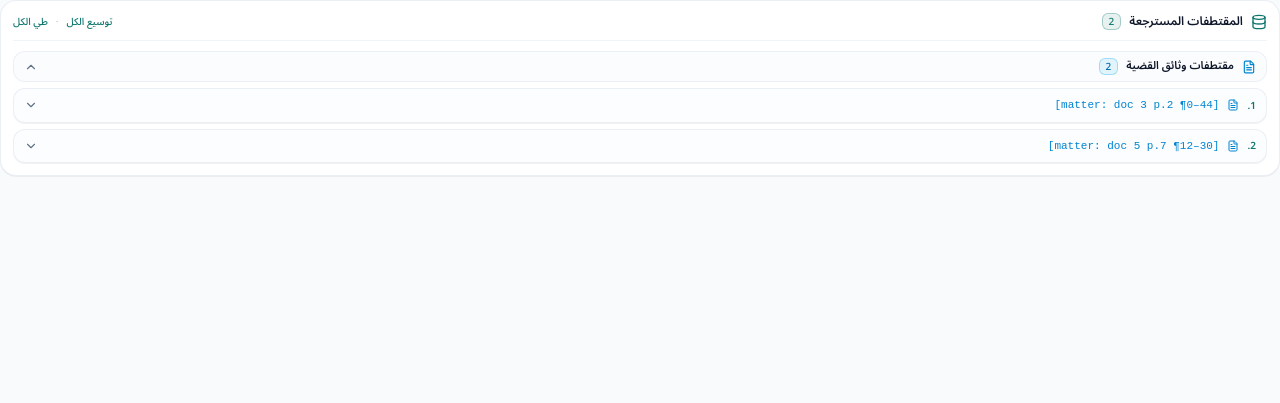
Test: RetrievedChunksPanel › expands one chunk card at a time and leaves its siblings collapsed
The image size is (1280, 403).
Expected: the text "تمت تسوية العقد كتابةً قبل انتهاء أجل الإخطار." is not shown
Click the button "1. [matter: doc 3 p.2 ¶0–44]".
click(1137, 105)  # box [14,89,1266,122]
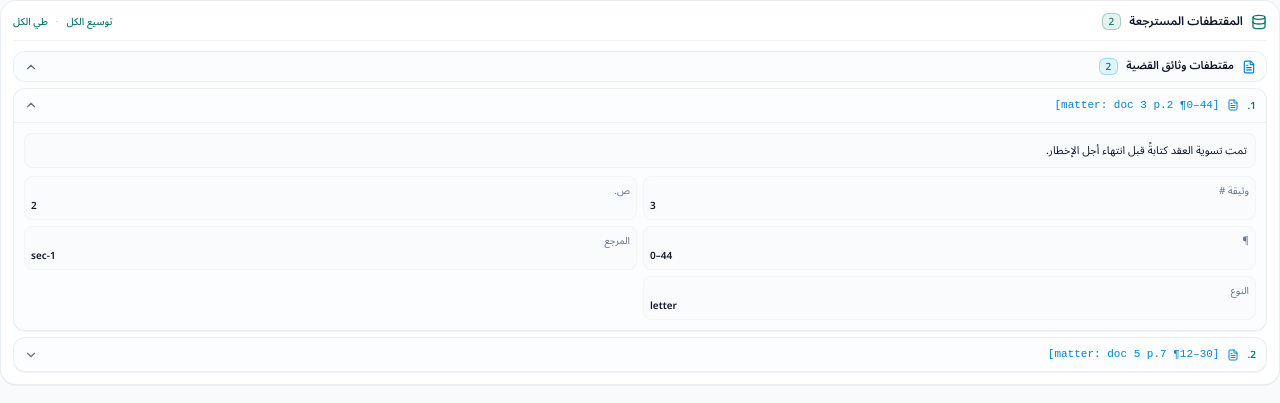
Now the button "1. [matter: doc 3 p.2 ¶0–44]" is expanded
Now the text "تمت تسوية العقد كتابةً قبل انتهاء أجل الإخطار." is shown, box [24,132,1256,168]
Click the button "1. [matter: doc 3 p.2 ¶0–44]".
click(1137, 105)  # box [14,89,1266,122]
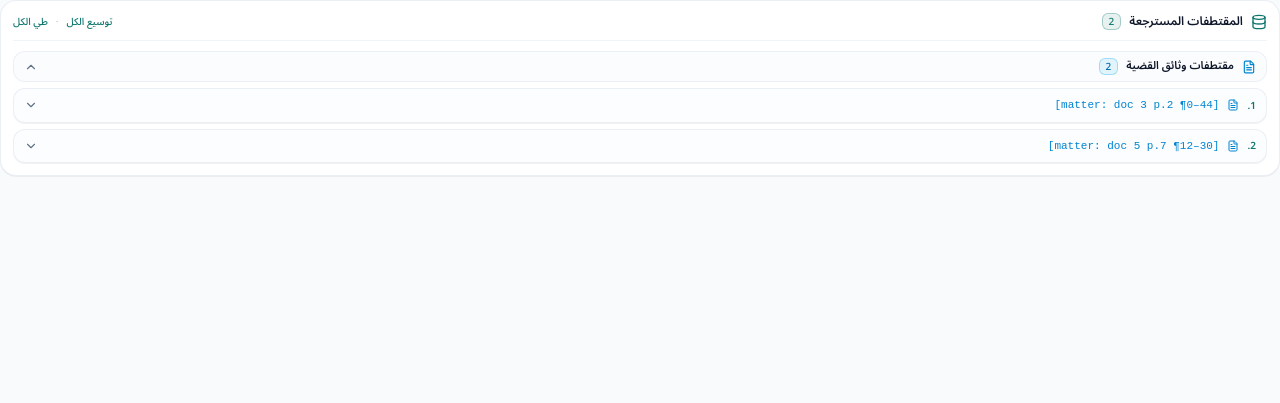
Now the button "1. [matter: doc 3 p.2 ¶0–44]" is collapsed, box [14,89,1266,122]
Now the text "تمت تسوية العقد كتابةً قبل انتهاء أجل الإخطار." is gone
